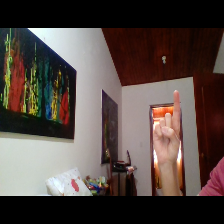2T: (143, 85, 188, 164)
